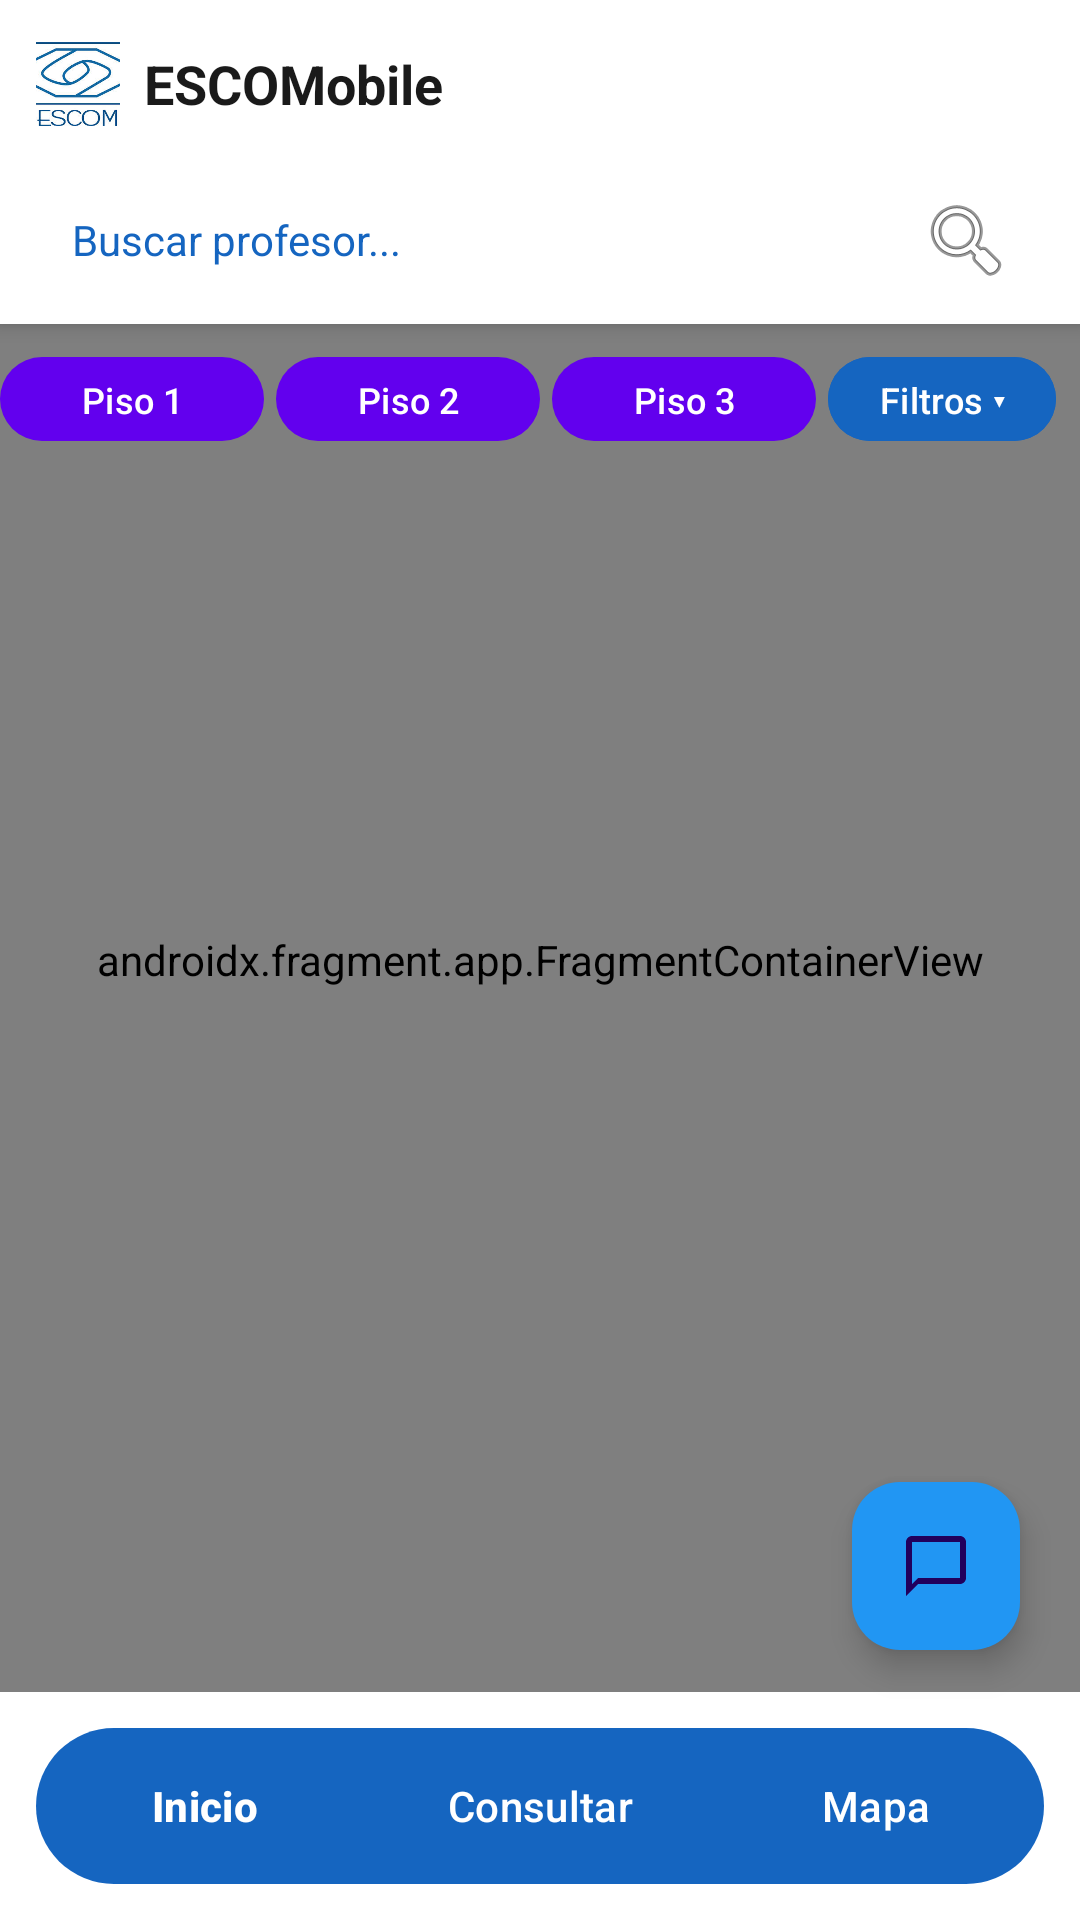

Where icons sit on this 1080px×1920px app screen, as (x1, y1, x2, y2):
Chatbot: (852, 1482, 1020, 1650)
